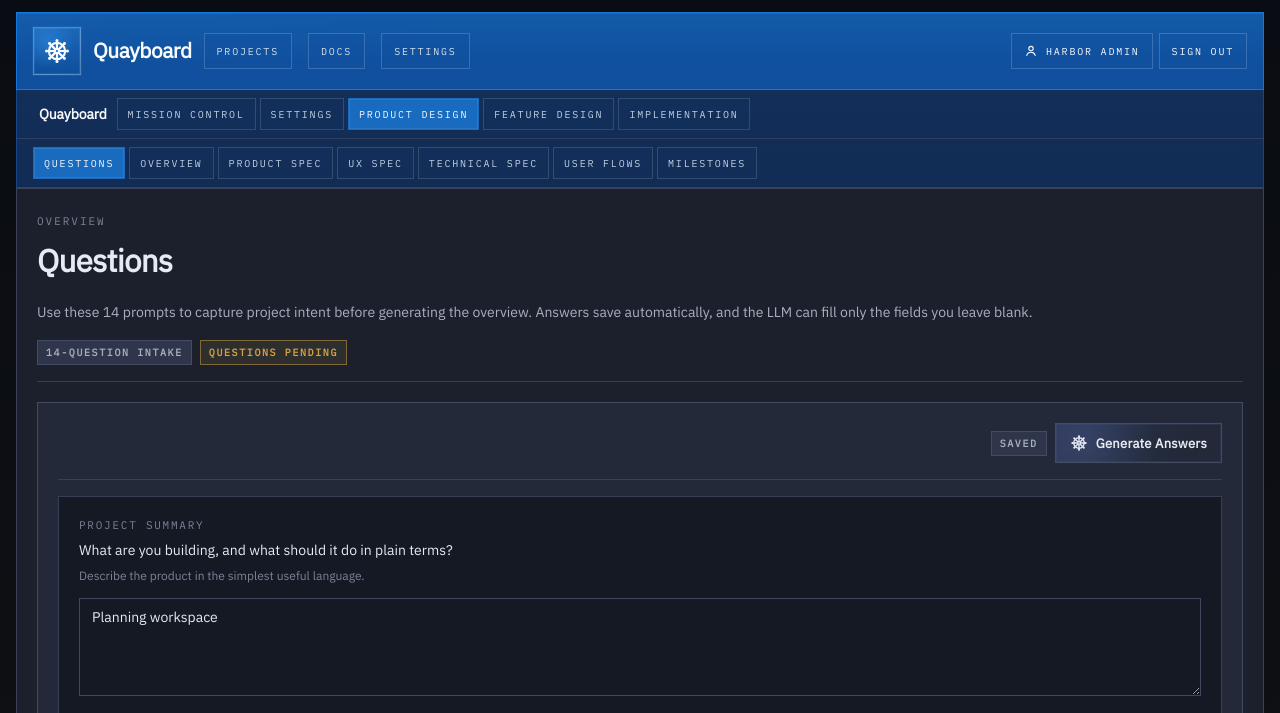
Scenario: workflow pages › refreshes generated questionnaire answers after the auto-answer job succeeds
Expected: the text box showing "Planning workspace" is shown, [79, 598, 1201, 696]
Step 1. Click the button "Generate Answers" → (1138, 443), box [1055, 423, 1222, 463]
(page scrolled)
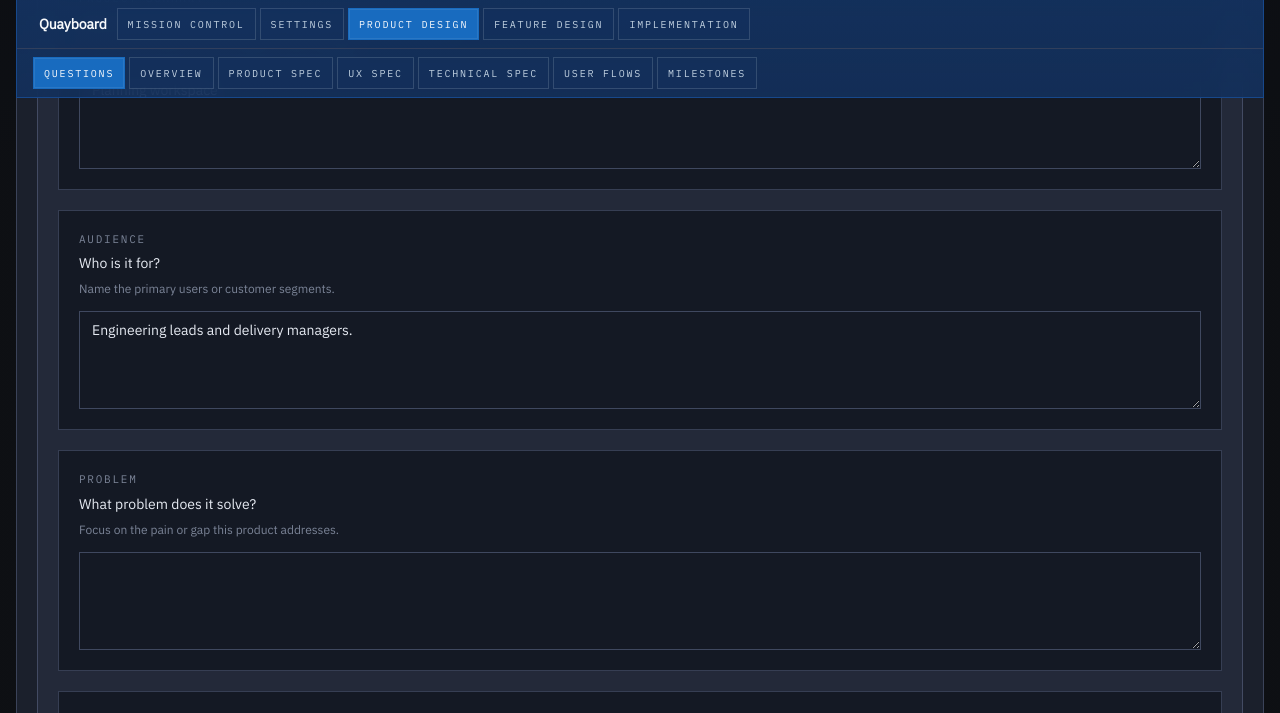
Expected: the text box showing "Engineering leads and delivery managers." is shown, [79, 311, 1201, 409]
